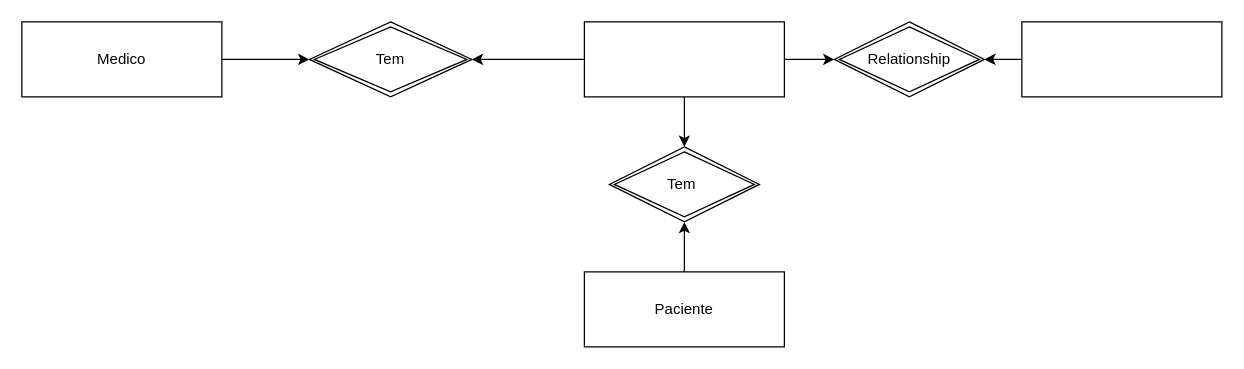
Image size: 1244x369. Some labels were removed from this diagram. The box of each missing label's shape, as (x1, y1, x2, y2) in pixels:
Clinica: (1021, 21, 1222, 97)
Consulta: (583, 21, 784, 97)
